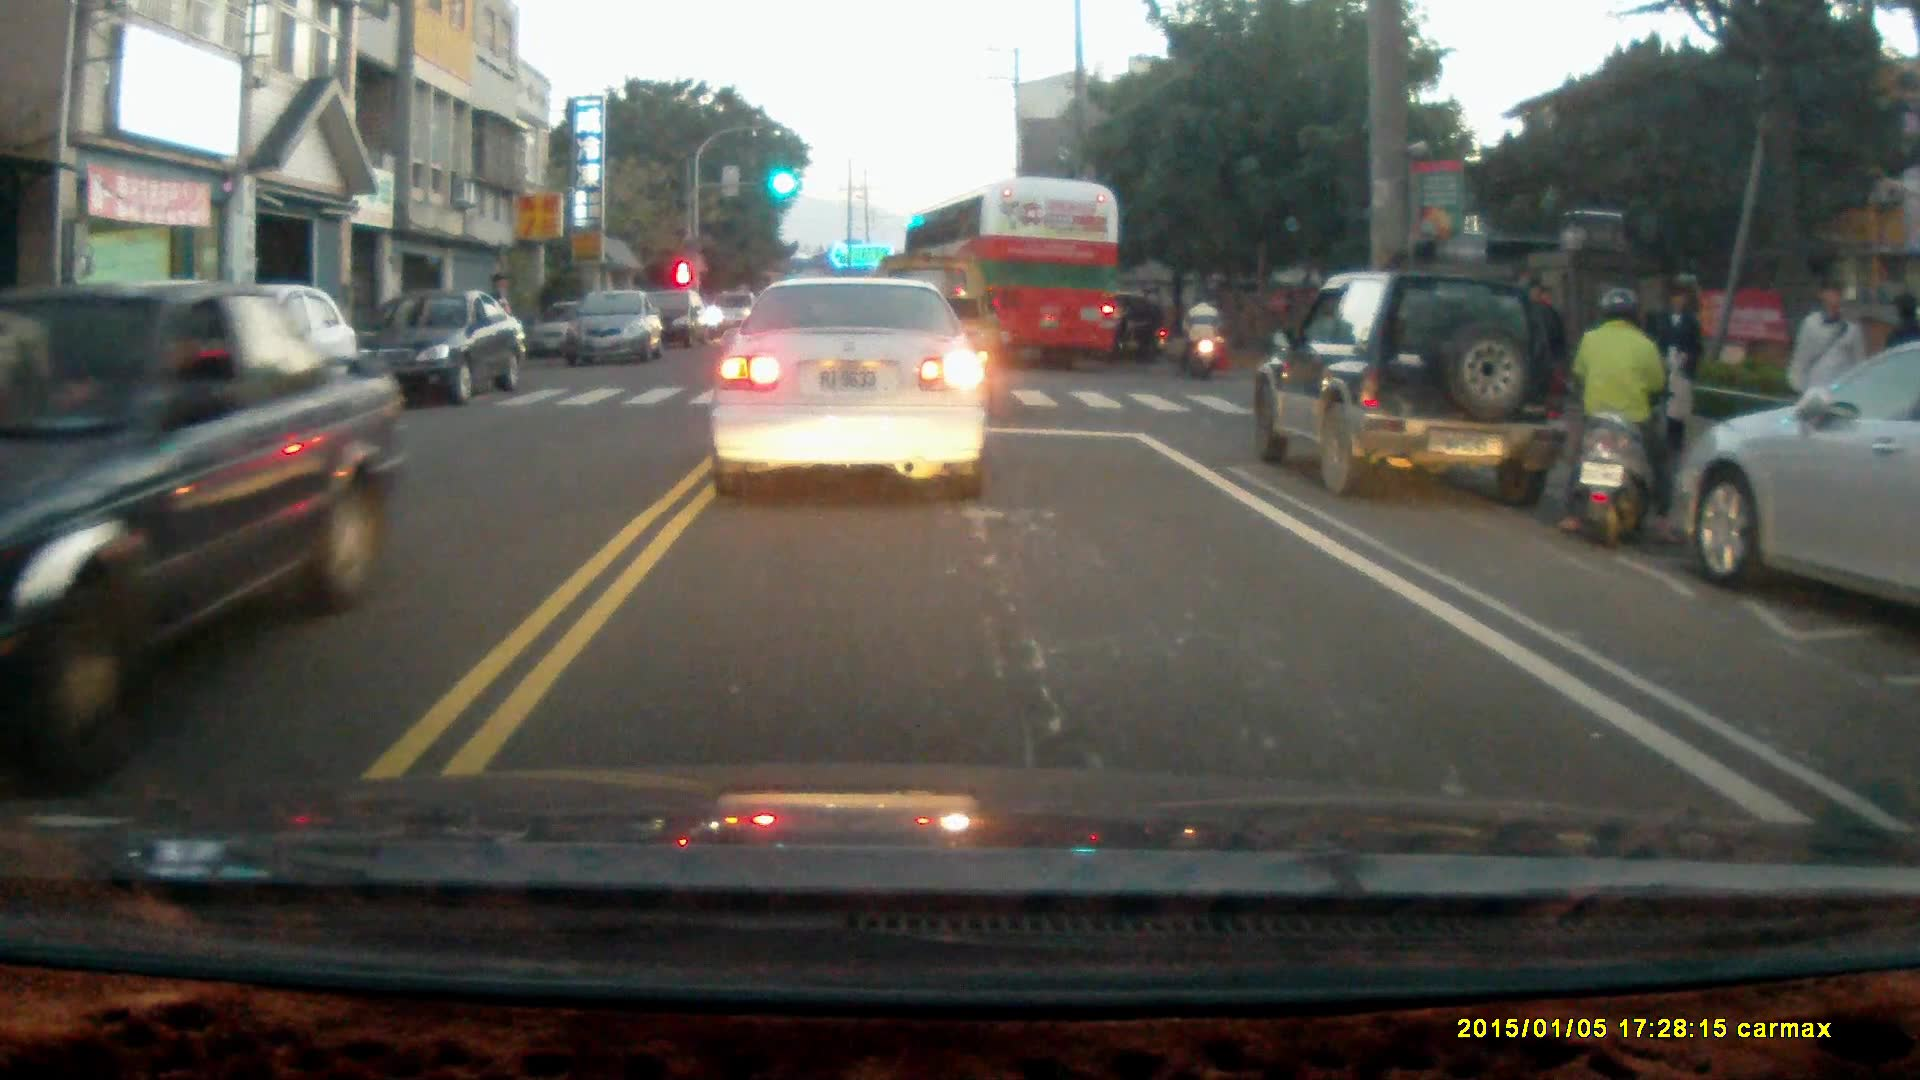pedestrian: (1791, 271, 1870, 453), (1649, 280, 1707, 463)
rider: (1556, 286, 1687, 544), (1105, 291, 1171, 366), (1179, 288, 1223, 378)
vehicle: (5, 274, 413, 782), (1250, 272, 1576, 506), (1675, 340, 1920, 616), (705, 272, 993, 503), (899, 176, 1123, 376), (351, 287, 529, 405), (566, 291, 662, 370), (631, 286, 717, 355)
